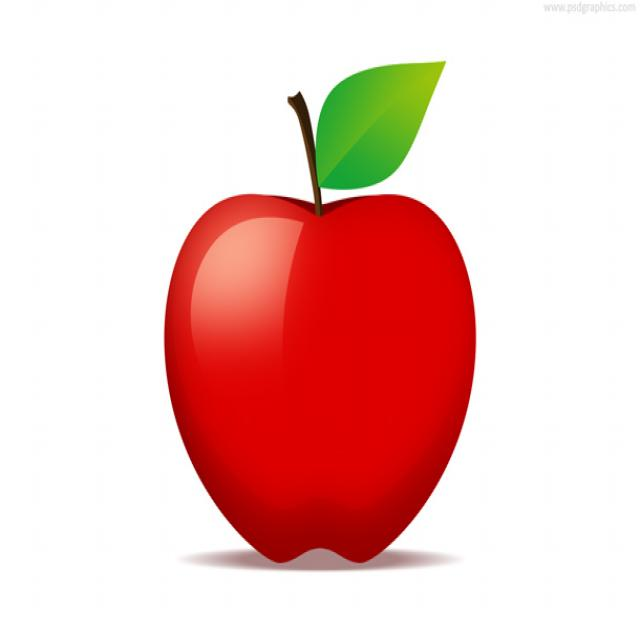apple: (162, 61, 482, 587)
